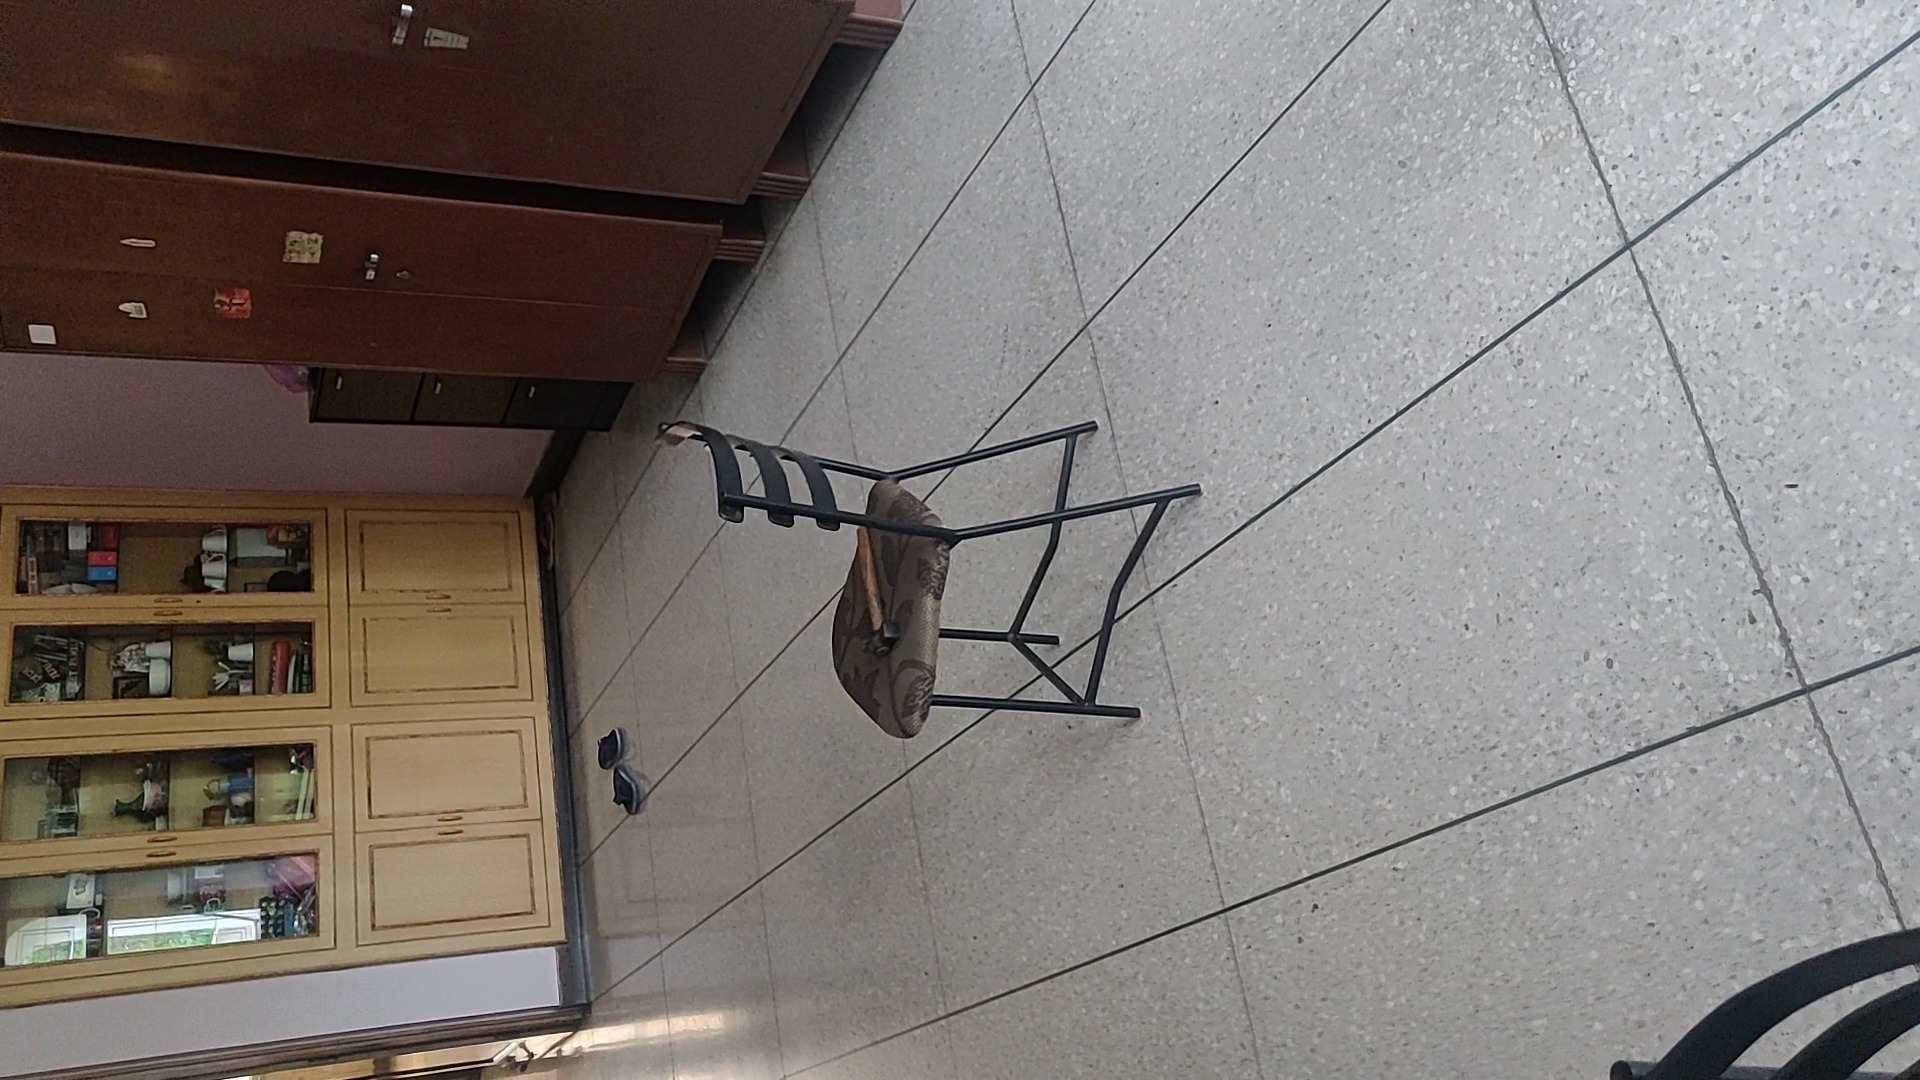hammer: (851, 522, 901, 658)
